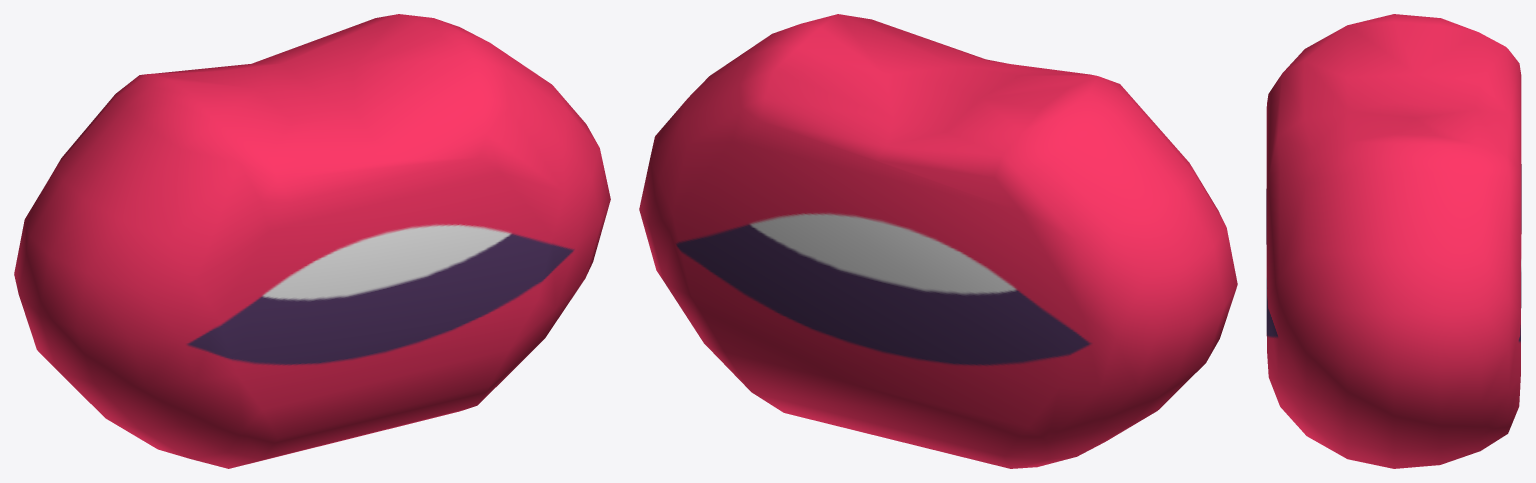
Rendered from red_mouth.glb.
3 renders of one model, left to right at view 1: azimuth 30°, elevation 25°; view 2: azimuth 150°, elevation 25°; view 3: azimuth 270°, elevation 25°, orthographic. The views are drawn at different scales.
Visible parts, largest first — view 1: Red_Mouth; view 2: Red_Mouth; view 3: Red_Mouth.
Boxes of the visible parts, bbox=[...] form: Red_Mouth: bbox=[14, 14, 610, 468]; Red_Mouth: bbox=[639, 14, 1237, 468]; Red_Mouth: bbox=[1266, 14, 1521, 468].
Bounding box in the file's own units: 0.5793 × 0.3605 × 0.2473.
1 material, 1 textured.
